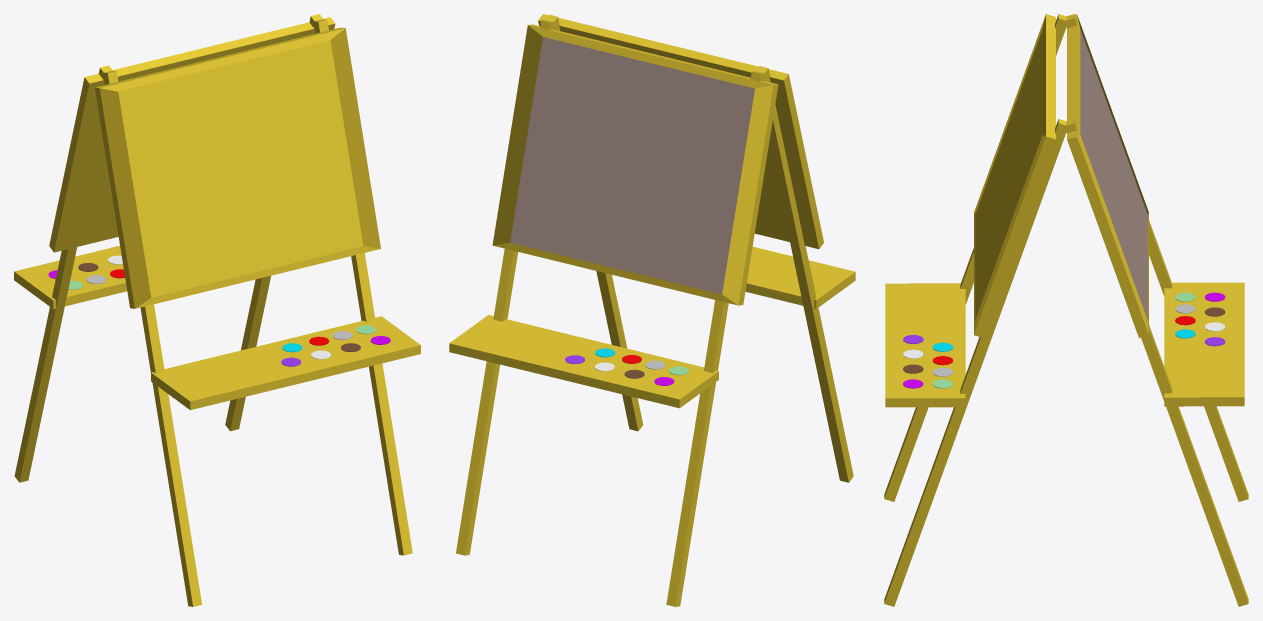
The model's file is Easel.gltf.
The picture shows the model from 3 angles, left to right: view 1: azimuth 30°, elevation 25°; view 2: azimuth 150°, elevation 25°; view 3: azimuth 270°, elevation 25°; orthographic projection. The views are drawn at different scales.
Parts seen in each view (by area): view 1: node-0; view 2: node-0; view 3: node-0.
Part boxes in pixels (<box>): node-0: <box>14,14,420,606</box>; node-0: <box>449,14,855,606</box>; node-0: <box>884,14,1248,606</box>.
Size of the model in its own units: 203408 by 374453 by 255780.
